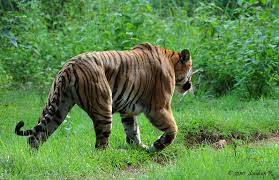tiger: (13, 41, 196, 153)
